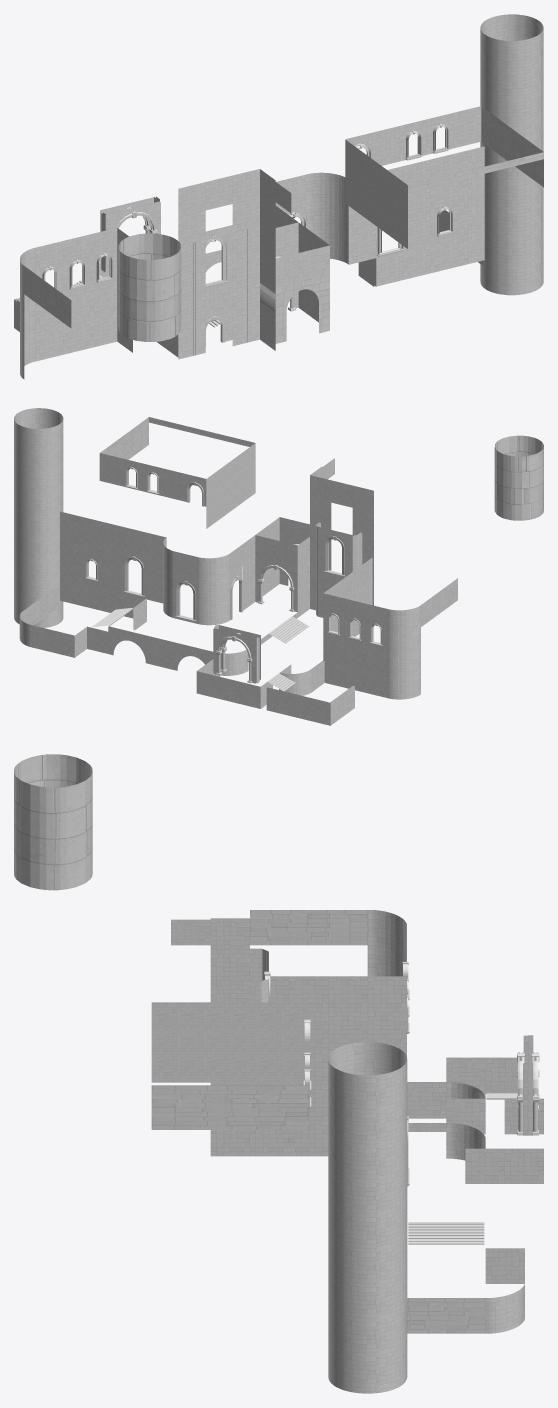
File: wall_nEw.fbx
The picture shows the model from 3 angles, top to bottom: view 1: azimuth 30°, elevation 25°; view 2: azimuth 150°, elevation 25°; view 3: azimuth 270°, elevation 25°; orthographic projection. The views are drawn at different scales.
Parts seen in each view (by area): view 1: MeshBaker__10__mesh_mesh; view 2: MeshBaker__10__mesh_mesh; view 3: MeshBaker__10__mesh_mesh.
Boxes of the visible parts, bbox=[...] form: MeshBaker__10__mesh_mesh: bbox=[14, 14, 543, 379]; MeshBaker__10__mesh_mesh: bbox=[14, 408, 543, 725]; MeshBaker__10__mesh_mesh: bbox=[14, 754, 543, 1393].
Bounding box in the file's own units: 59.81 × 26.8 × 40.45.
